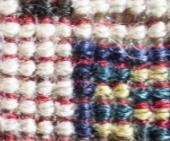Knot: (111, 86, 130, 98), (94, 48, 110, 59), (94, 85, 111, 95), (114, 24, 127, 36), (22, 122, 37, 132), (33, 5, 46, 16), (93, 13, 105, 24), (4, 121, 17, 131), (96, 27, 110, 36), (103, 13, 114, 24), (22, 3, 34, 13), (81, 85, 93, 95), (59, 27, 72, 36), (71, 27, 83, 36), (59, 7, 71, 16), (156, 118, 168, 127), (4, 131, 15, 140), (59, 16, 71, 24), (22, 14, 32, 23), (80, 55, 90, 64), (117, 98, 127, 107), (97, 36, 106, 46), (123, 39, 132, 49), (5, 91, 16, 99), (114, 13, 123, 22), (97, 59, 106, 68), (152, 100, 161, 109), (59, 36, 69, 44), (21, 133, 32, 140), (51, 14, 59, 23), (71, 16, 80, 24), (59, 96, 68, 104), (9, 109, 17, 118), (115, 60, 124, 68), (73, 77, 81, 86), (4, 14, 12, 22), (42, 16, 51, 23), (79, 95, 86, 103), (1, 110, 8, 118), (4, 36, 13, 42), (56, 136, 66, 140)
